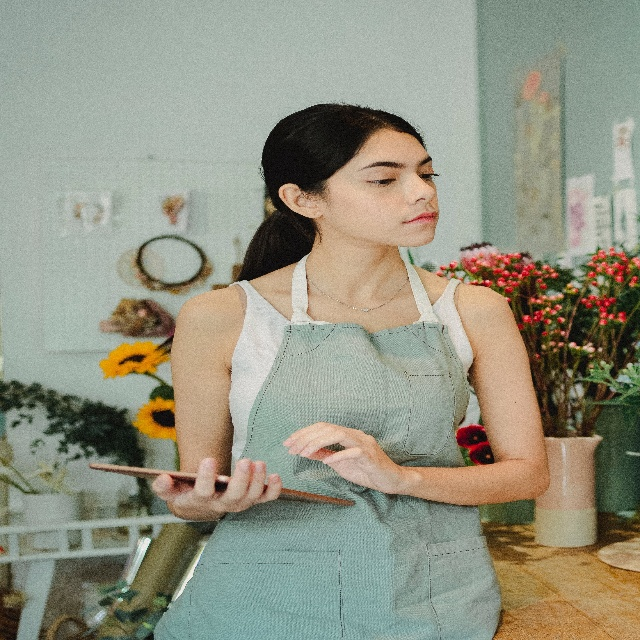Sin_guantes: (151, 455, 283, 531), (284, 416, 395, 497)
